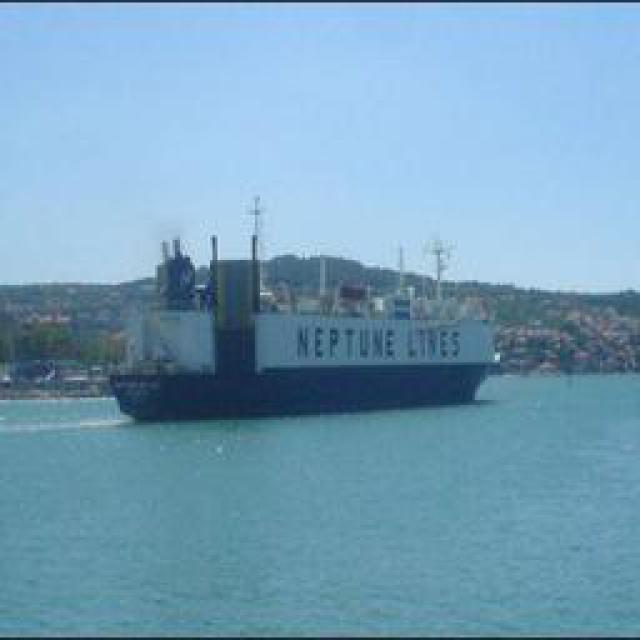Ship: (111, 205, 499, 423)
